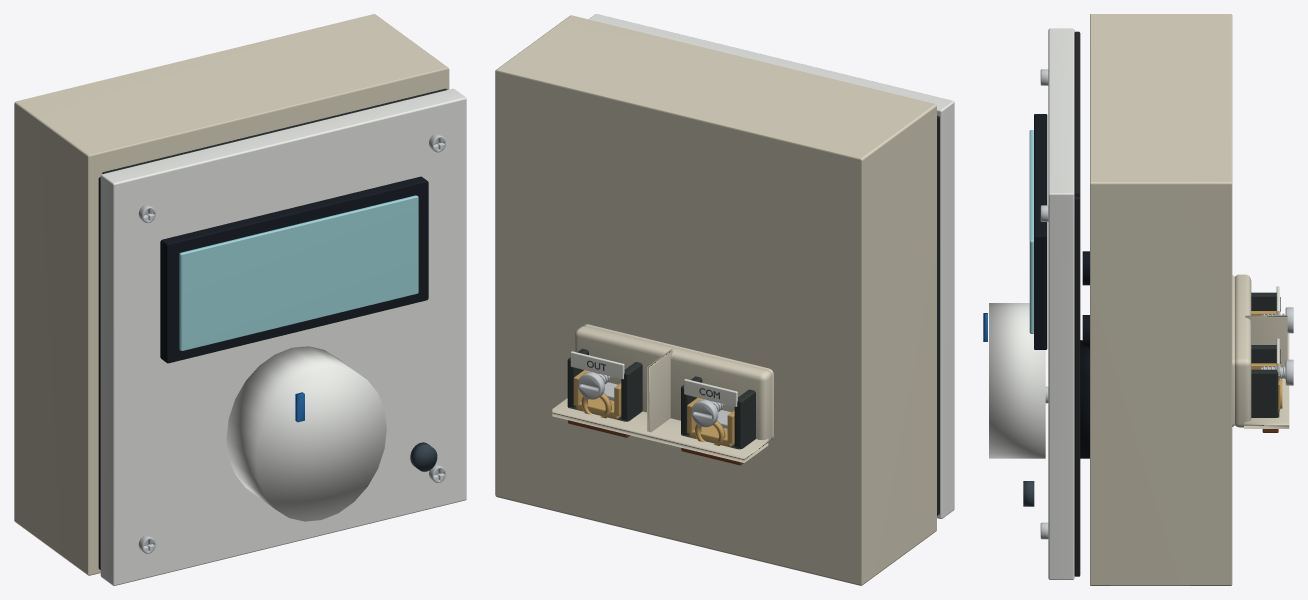
Rendered from thermostat_default.glb.
3 renders of one model, left to right at view 1: azimuth 30°, elevation 25°; view 2: azimuth 150°, elevation 25°; view 3: azimuth 270°, elevation 25°, orthographic. The views are drawn at different scales.
Parts seen in each view (by area): view 1: part:cover, part:body, part:body.001, part:actuator, detail:enclosure-gasket-and-fixings · Detail rubber gasket, detail:enclosure-gasket-and-fixings · Detail zinc plated fix, part:body.002; view 2: part:body, part:terminals · Original 5a609f27, part:cover, detail:terminal-clamp:OUT · Detail moulded engineering polym, detail:terminal-clamp:COM · Detail moulded engineering polym, detail:enclosure-gasket-and-fixings · Detail rubber gasket, detail:terminal-clamp:OUT · Detail machined brass, detail:terminal-clamp:COM · Detail machined brass, Moulded terminal legend pad.001, detail:terminal-clamp:COM · Detail zinc plated fixing, Moulded terminal legend pad, detail:terminal-clamp:OUT · Detail zinc plated fixing; view 3: part:body, part:cover, part:actuator, part:terminals · Original 5a609f27, part:body.001, detail:enclosure-gasket-and-fixings · Detail rubber gasket, detail:terminal-clamp:OUT · Detail moulded engineering polym, part:contacts, part:body.003 · Original 3ff2d46d, detail:enclosure-gasket-and-fixings · Detail zinc plated fix, detail:terminal-clamp:COM · Detail moulded engineering polym.
Boxes of the visible parts, x1,y1,x2,y2 form: part:cover: (100,88,466,585); part:body: (14,14,449,575); part:body.001: (160,176,428,363); part:actuator: (226,346,386,521); detail:enclosure-gasket-and-fixings · Detail rubber gasket: (98,88,447,569); detail:enclosure-gasket-and-fixings · Detail zinc plated fix: (138,133,445,553); part:body.002: (410,442,437,471); part:body: (495,15,936,585); part:terminals · Original 5a609f27: (552,324,773,462); part:cover: (589,14,954,518); detail:terminal-clamp:OUT · Detail moulded engineering polym: (567,348,642,421); detail:terminal-clamp:COM · Detail moulded engineering polym: (681,376,755,449); detail:enclosure-gasket-and-fixings · Detail rubber gasket: (937,116,939,515); detail:terminal-clamp:OUT · Detail machined brass: (573,370,621,419); detail:terminal-clamp:COM · Detail machined brass: (687,397,734,446); Moulded terminal legend pad.001: (570,351,624,379); detail:terminal-clamp:COM · Detail zinc plated fixing: (691,399,731,428); Moulded terminal legend pad: (684,379,737,406); detail:terminal-clamp:OUT · Detail zinc plated fixing: (578,371,617,400); part:body: (1090,14,1232,585); part:cover: (1048,28,1074,579); part:actuator: (983,303,1045,458); part:terminals · Original 5a609f27: (1232,274,1289,428); part:body.001: (1029,114,1047,349); detail:enclosure-gasket-and-fixings · Detail rubber gasket: (1074,31,1080,576); detail:terminal-clamp:OUT · Detail moulded engineering polym: (1251,345,1279,417); part:contacts: (1080,341,1089,458); part:body.003 · Original 3ff2d46d: (1082,251,1089,348); detail:enclosure-gasket-and-fixings · Detail zinc plated fix: (1040,69,1048,539); detail:terminal-clamp:COM · Detail moulded engineering polym: (1251,292,1276,310).
Size of the model in its own units: 0.7954 by 0.8845 by 0.6161.
